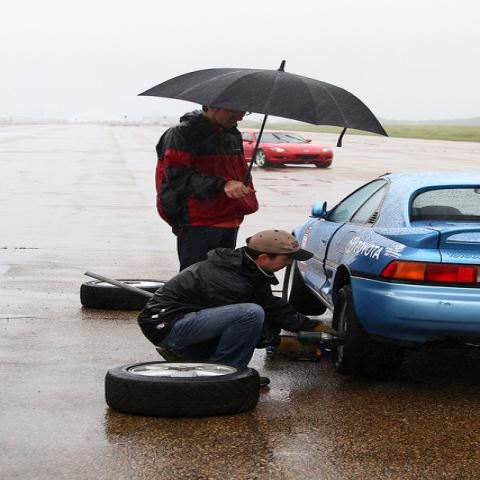car: (282, 172, 479, 376), (239, 129, 334, 168)
